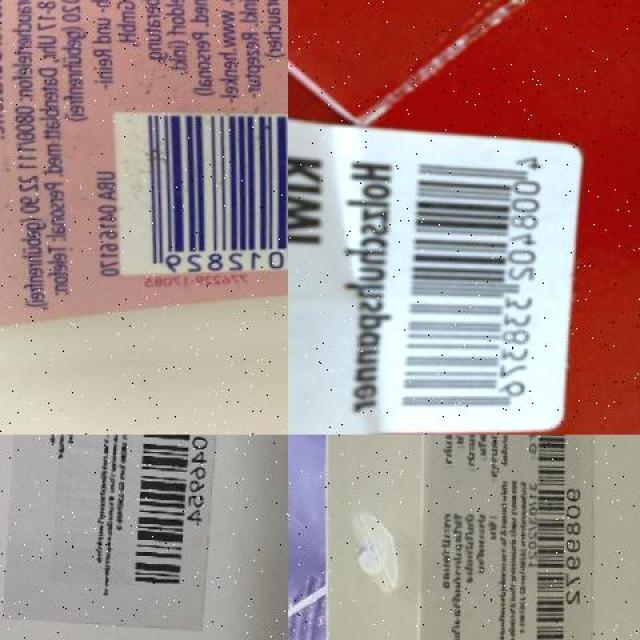Barcode: (394, 142, 554, 423), (111, 104, 288, 279), (128, 435, 212, 596), (527, 434, 589, 640)
